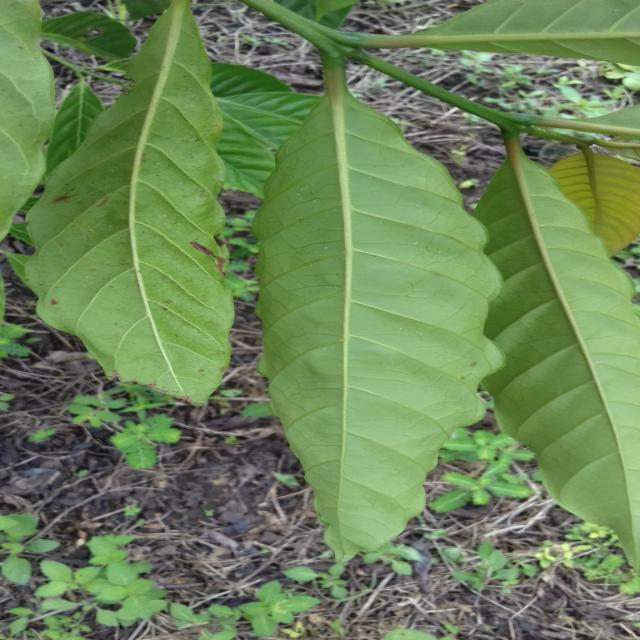Sanas: (252, 62, 499, 560)
